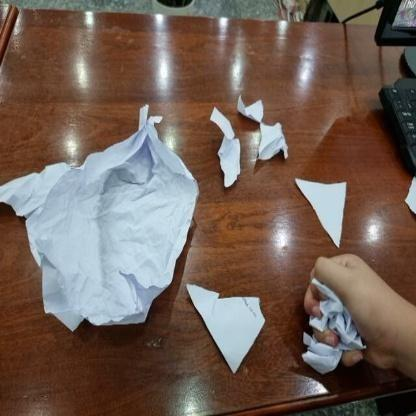trash: (0, 99, 200, 333), (178, 281, 266, 373), (298, 276, 366, 386), (288, 173, 352, 251), (230, 90, 288, 169), (202, 103, 249, 189)
